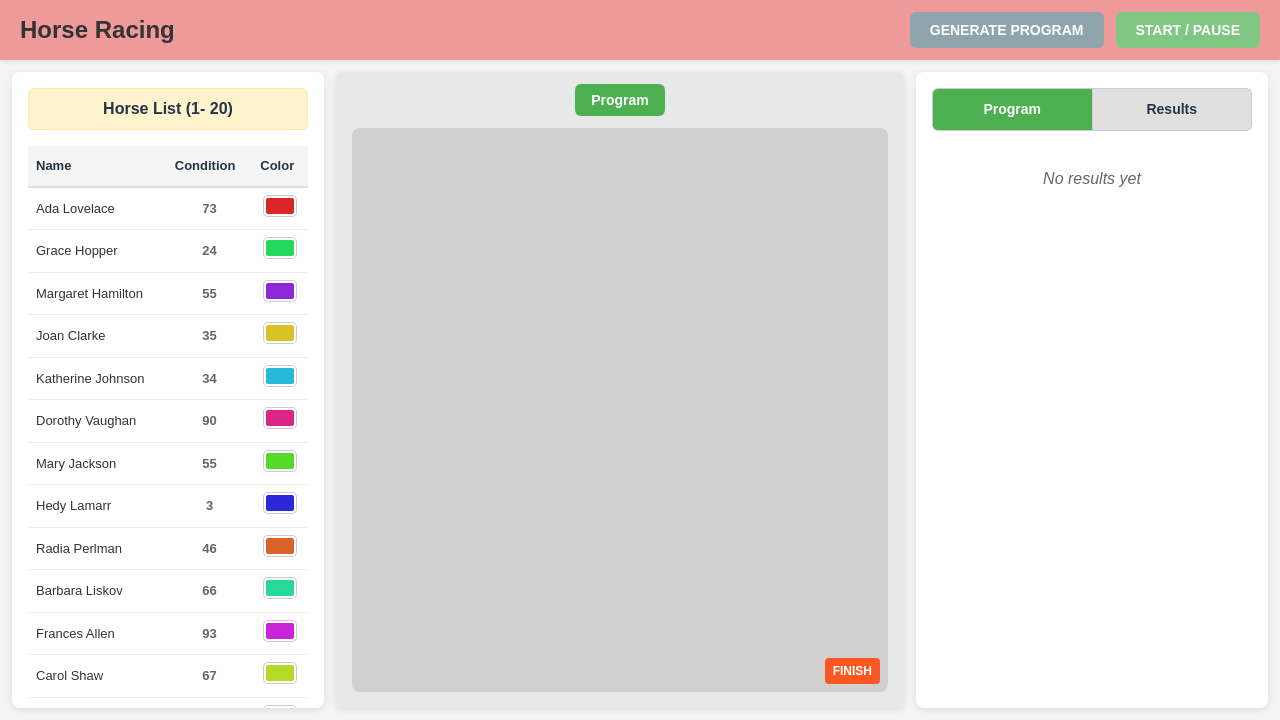
Horse Racing Game › should start racing when start button is clicked
// Generate program first
Click the button with class "btn-generate": x=1007, y=30 [910,12,1104,48]
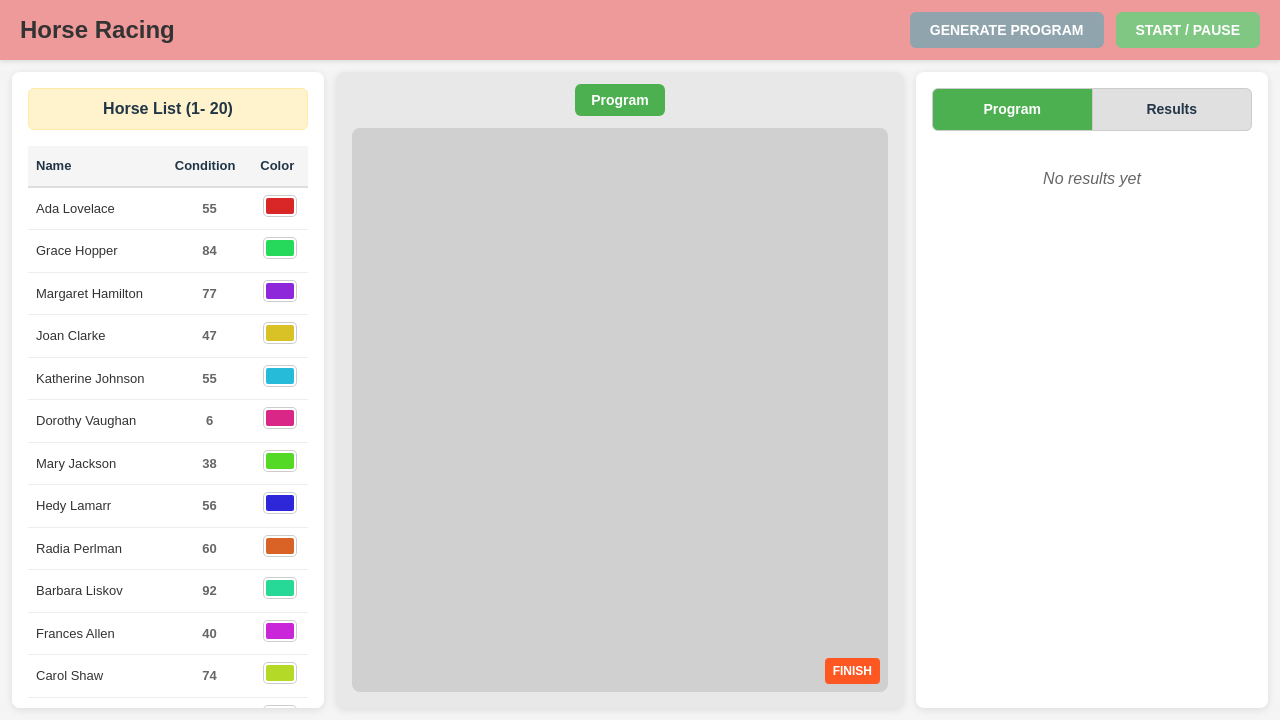
// Start the race
Click the button with class "btn-start": x=1189, y=30 [1116,12,1261,48]
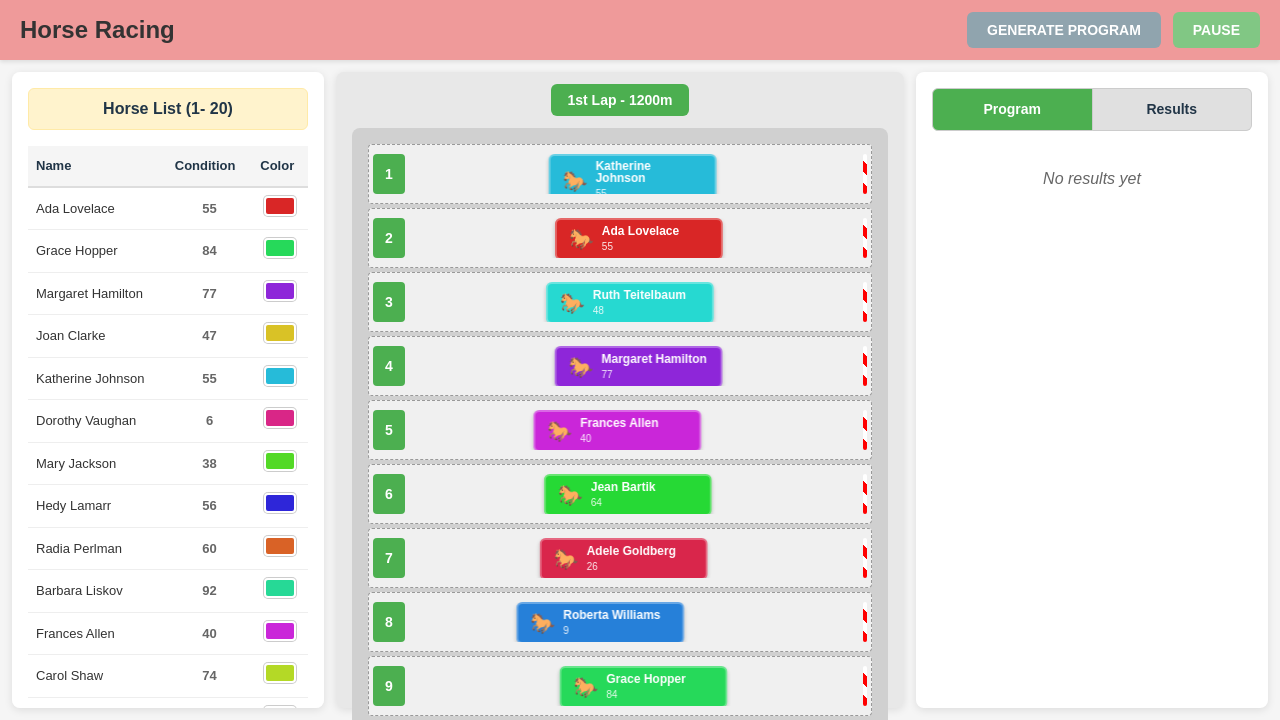
Check: the button with class "btn-start" reads "PAUSE", box [1173,12,1260,48]
Check: the text with class "round-label" reads "1st Lap - 1200m", box [567,92,672,108]
Check: the number of elements with class "lane" is 10
